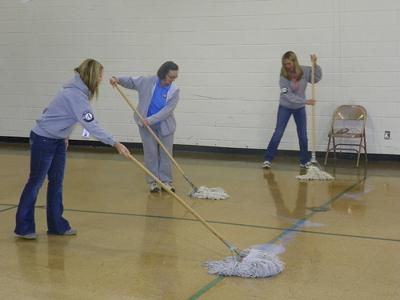person: (16, 58, 132, 239)
